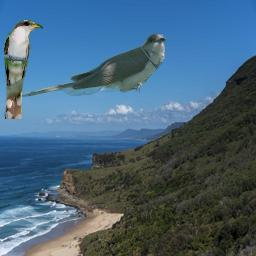Cuckoo: (17, 32, 166, 100), (3, 19, 43, 119)
